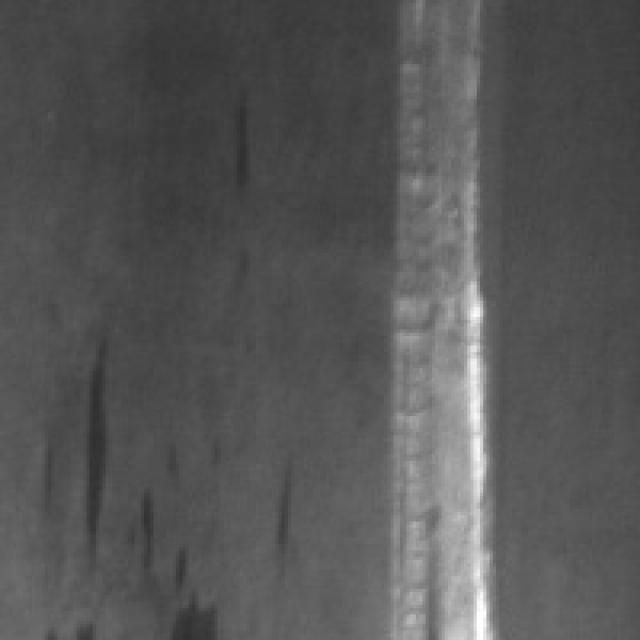inclusion: (131, 483, 221, 637), (68, 323, 119, 563), (262, 442, 301, 566), (218, 90, 259, 204)
scratches: (381, 0, 493, 634)
